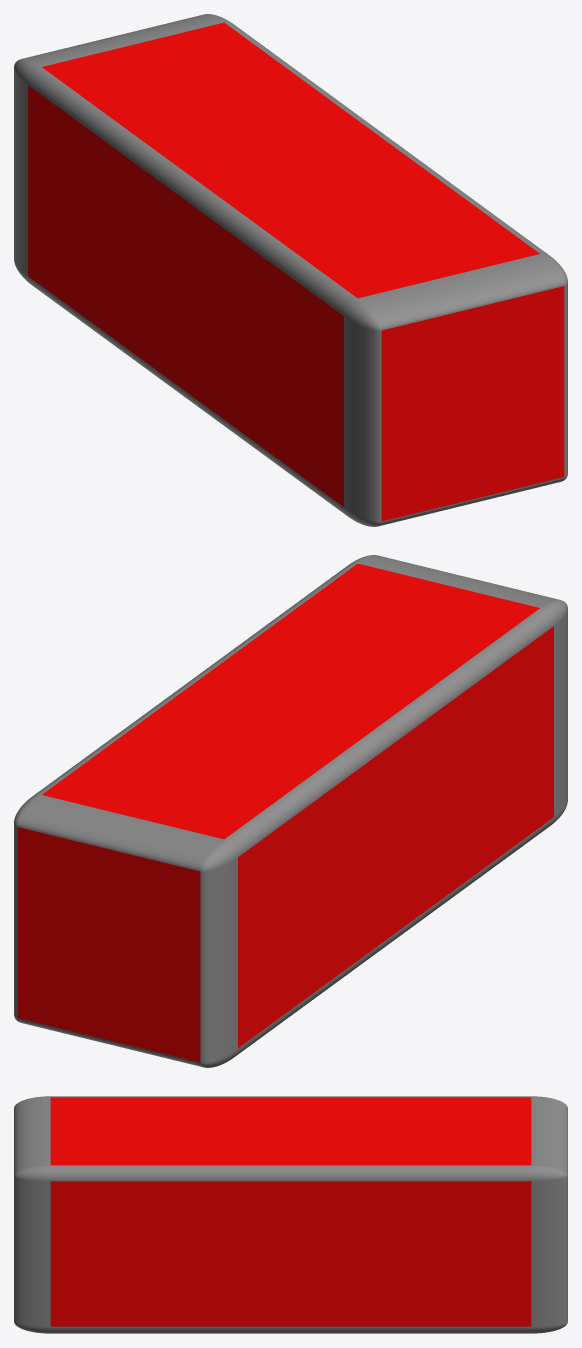
The model's file is Box 2 Long.fbx.
The picture shows the model from 3 angles, top to bottom: view 1: azimuth 30°, elevation 25°; view 2: azimuth 150°, elevation 25°; view 3: azimuth 270°, elevation 25°; orthographic projection. The views are drawn at different scales.
Parts seen in each view (by area): view 1: Cube; view 2: Cube; view 3: Cube.
Boxes of the visible parts, <box> form: Cube: <box>14,14,567,526</box>; Cube: <box>14,555,567,1067</box>; Cube: <box>14,1096,567,1333</box>.
Bounding box in the file's own units: 200 × 200 × 600.
